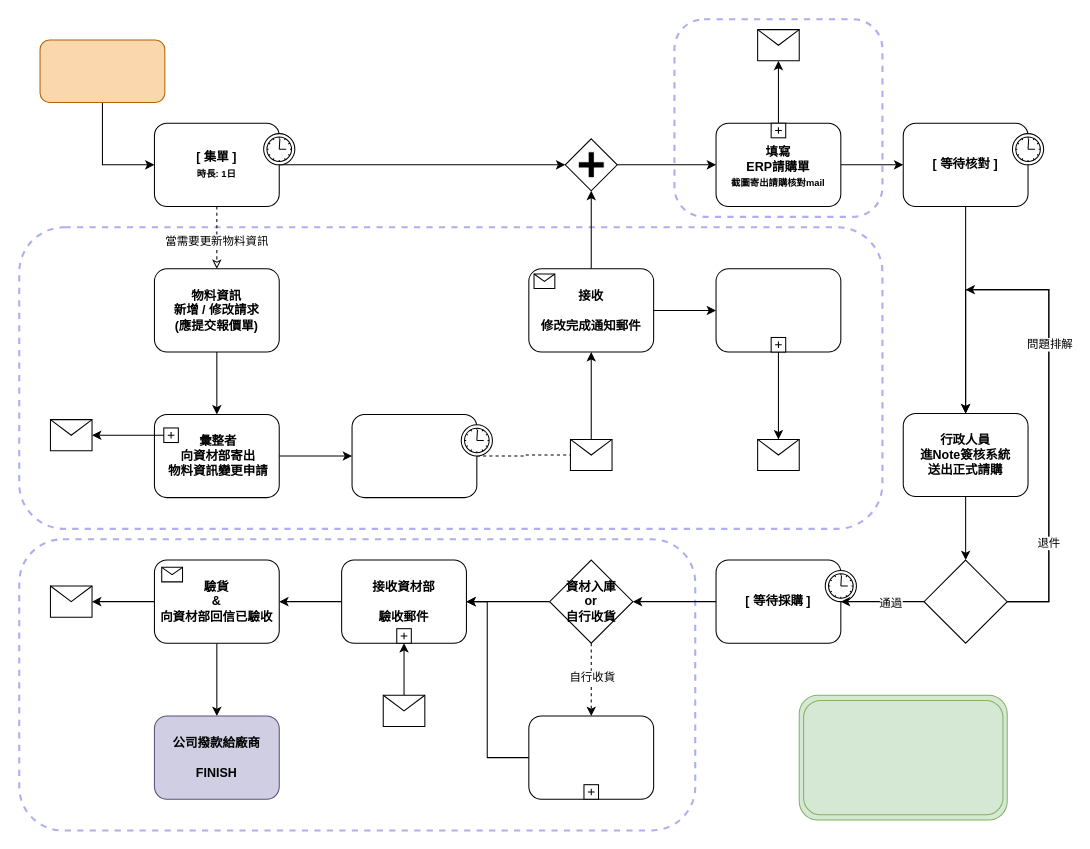
Some shapes in this 1090 by 849 pixel diagram are drawn without their labels. The shapes that lost their labels are listed below. From the top down, each one's box as (x1, y1, x2, y2) in pixels, then its label:
(39, 39, 165, 102): 需求者 填寫部門請購單
(715, 268, 841, 352): 向申請者 寄信通知 物料資訊完成更新
(351, 413, 477, 498): [ 等待回信 ]
(923, 559, 1007, 643): 逐級 簽核
(528, 715, 654, 799): 繳回 銷貨單據
(803, 699, 1003, 815): 當前常規 請購流程
